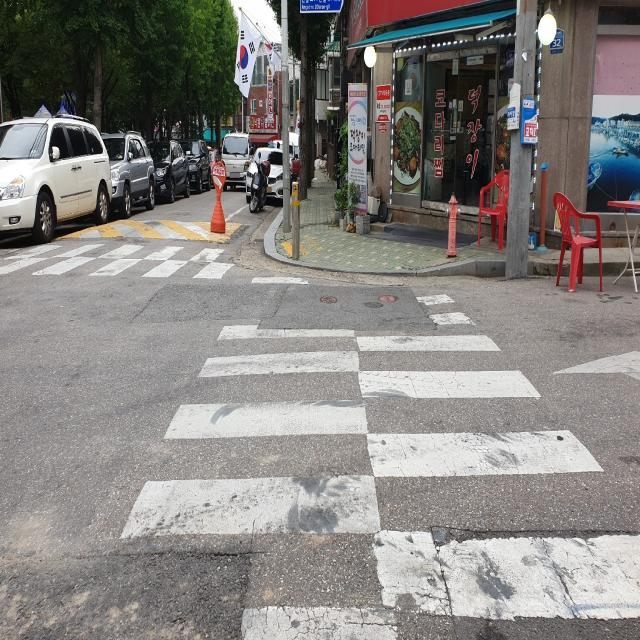횡단보도: (119, 275, 640, 640), (15, 242, 247, 274)
